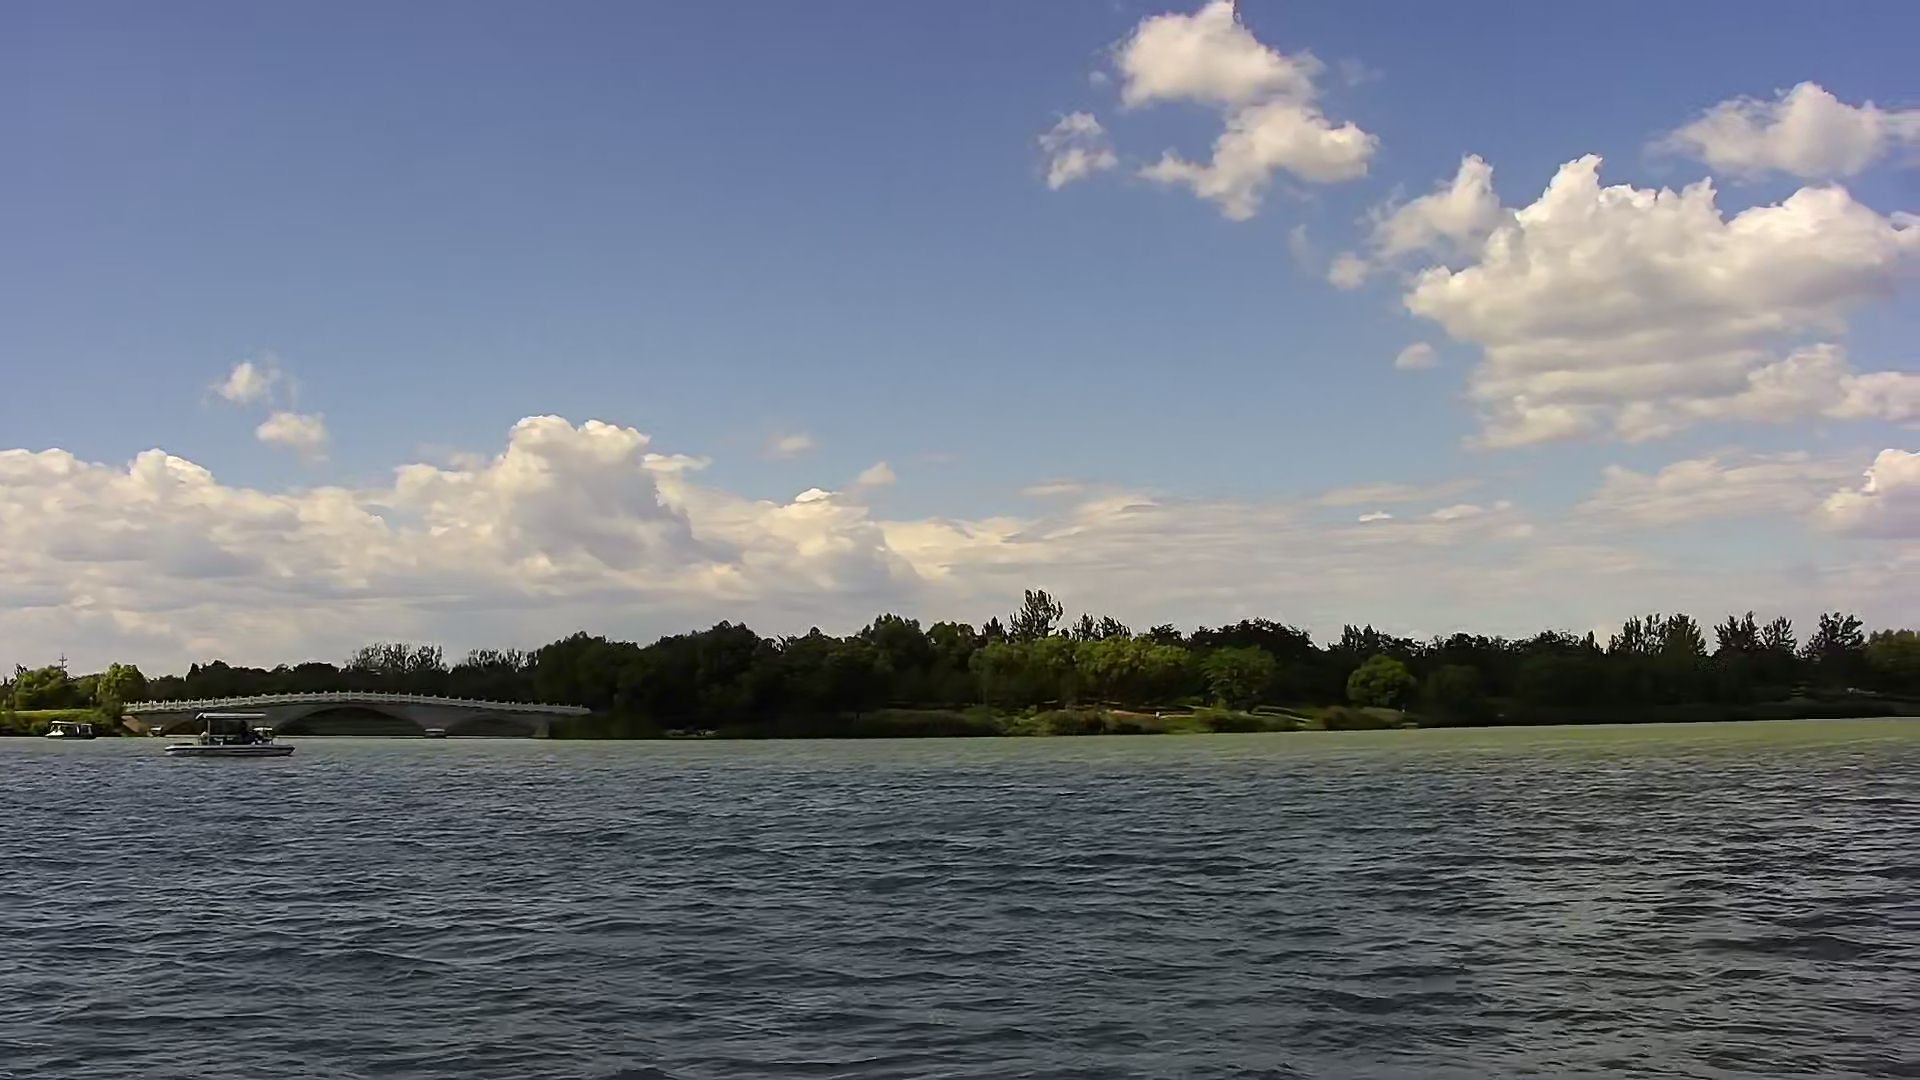boat: (164, 705, 302, 767)
bridge: (117, 686, 588, 741)
